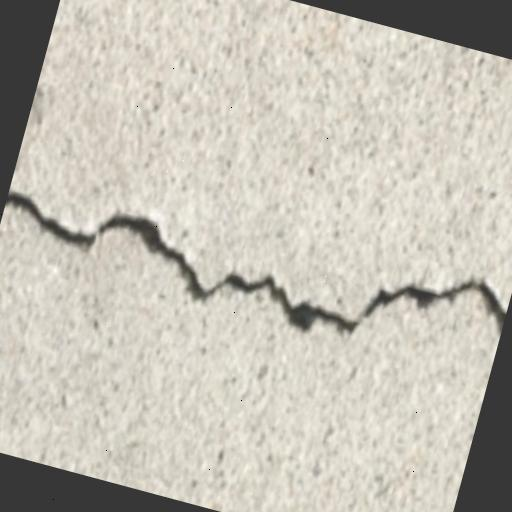spalling: (4, 178, 507, 352)
